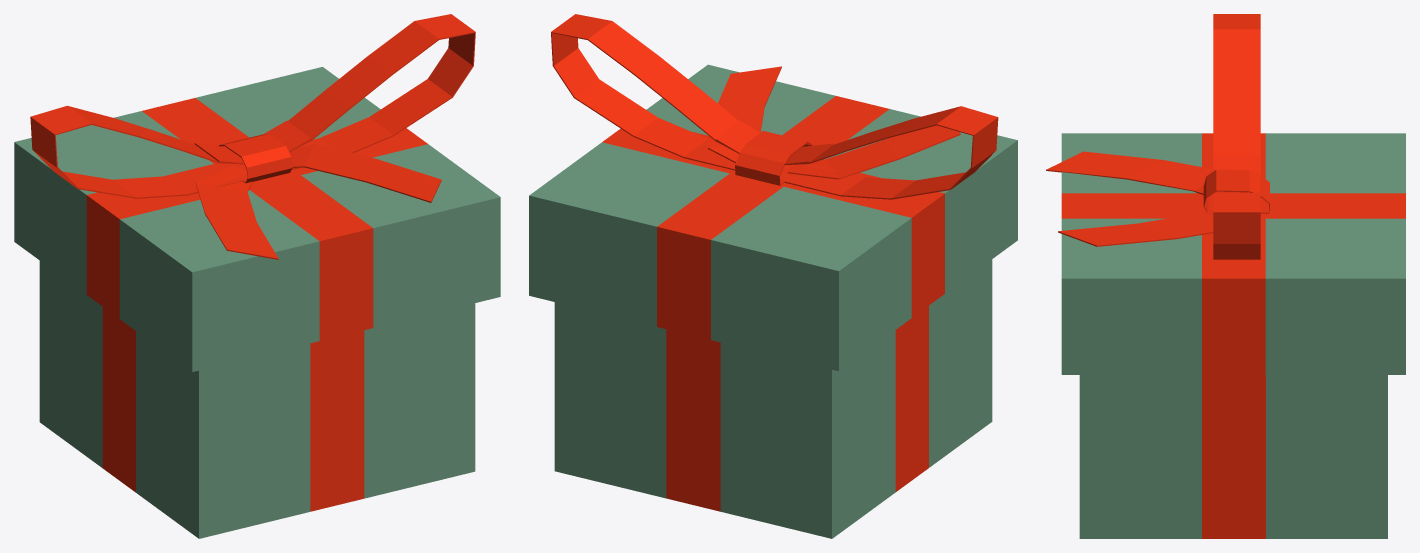
Rendered from Gift .fbx.
The picture shows the model from 3 angles, left to right: view 1: azimuth 30°, elevation 25°; view 2: azimuth 150°, elevation 25°; view 3: azimuth 270°, elevation 25°; orthographic projection. The views are drawn at different scales.
Parts seen in each view (by area): view 1: Cube.001, Cube, Plane; view 2: Cube.001, Cube, Plane; view 3: Cube.001, Cube, Plane.
Boxes of the visible parts, box(x1,y1,x2,y2) form: Cube.001: box(14, 67, 500, 371); Cube: box(39, 261, 475, 538); Plane: box(30, 14, 475, 259); Cube.001: box(529, 64, 1017, 371); Cube: box(554, 259, 992, 538); Plane: box(551, 14, 998, 199); Cube.001: box(1061, 133, 1405, 374); Cube: box(1079, 375, 1387, 538); Plane: box(1046, 14, 1269, 259).
Size of the model in its own units: 305 by 259 by 234.
